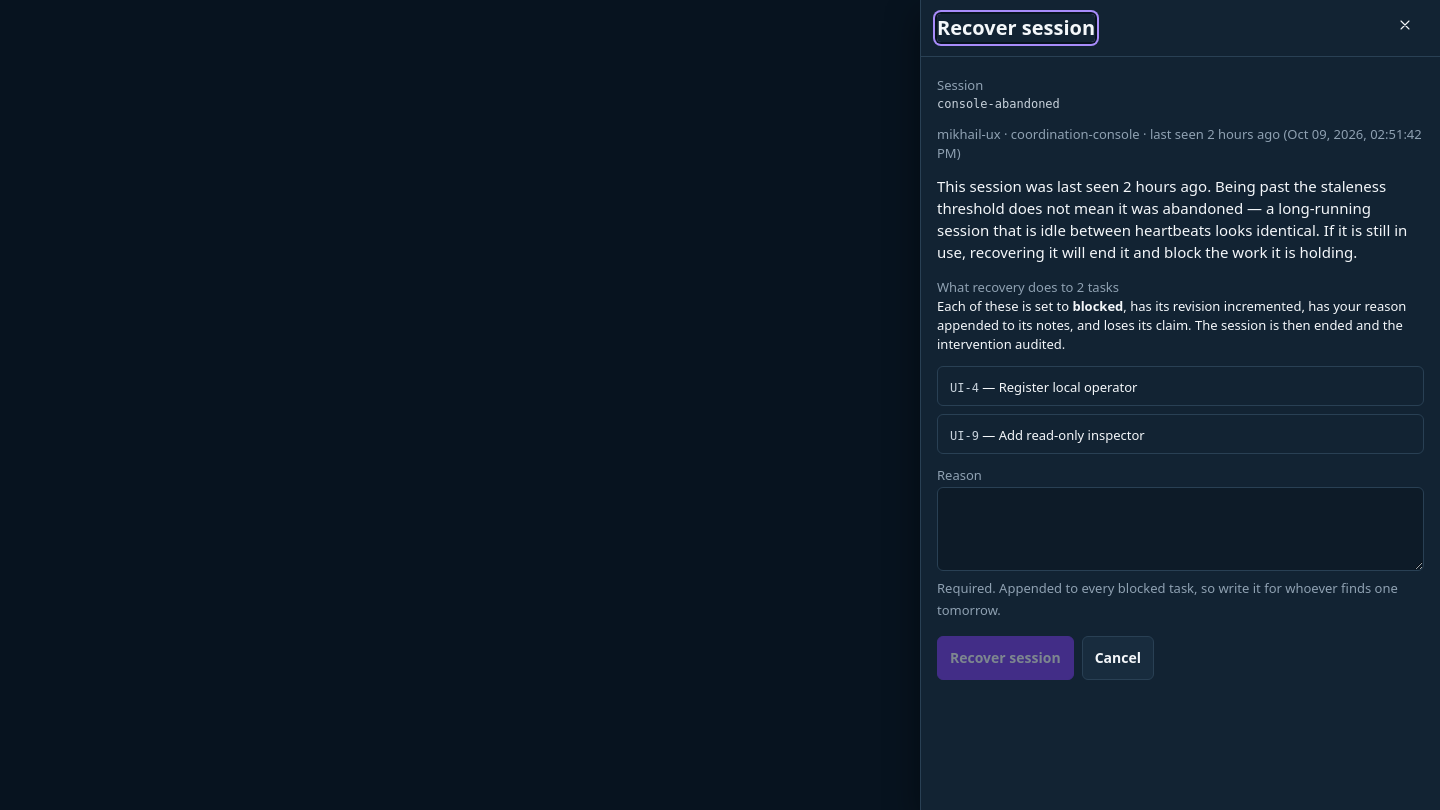
Test: SessionRecovery — gating › enables once actor and reason are both present
The width and height of the screenshot is (1440, 810).
Type "abandoned overnight" into the text box labelled "Reason".
click(1180, 529); type("abandoned overnight")  # box [937,487,1424,571]
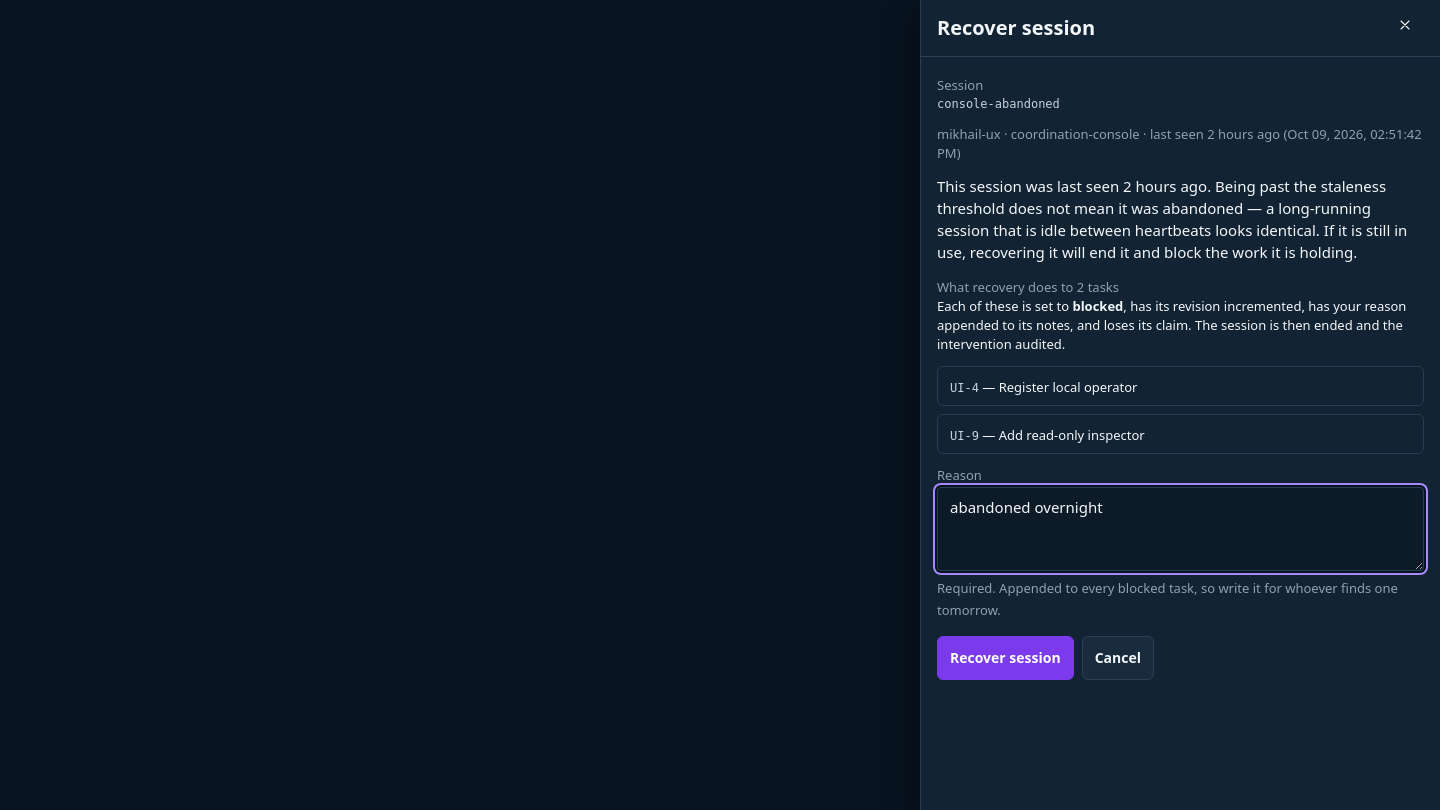
Now the button "Recover session" is enabled, box [937,636,1074,680]
